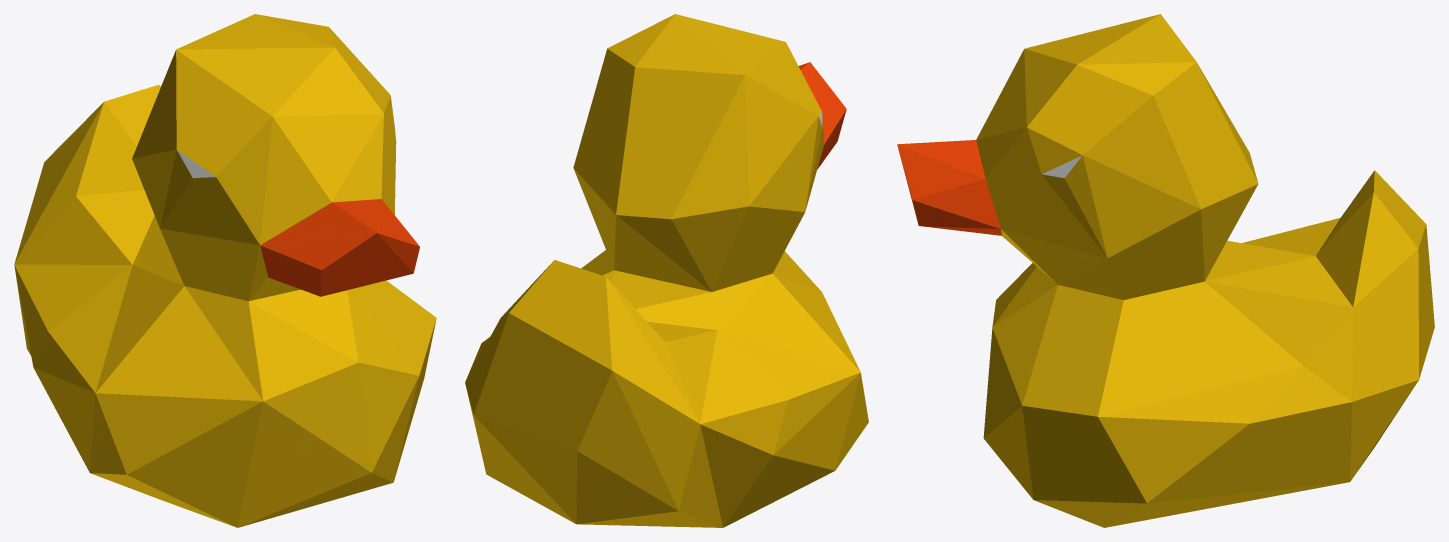
Rendered from duck.glb.
3 renders of one model, left to right at view 1: azimuth 30°, elevation 25°; view 2: azimuth 150°, elevation 25°; view 3: azimuth 270°, elevation 25°, orthographic. The views are drawn at different scales.
Visible parts, largest first — view 1: ducklohpoly_Baked; view 2: ducklohpoly_Baked; view 3: ducklohpoly_Baked.
Boxes of the visible parts, x1,y1,x2,y2 form: ducklohpoly_Baked: [14, 14, 436, 527]; ducklohpoly_Baked: [465, 14, 868, 527]; ducklohpoly_Baked: [897, 14, 1434, 527].
Size of the model in its own units: 0.251 by 0.3144 by 0.3491.
Materials: 1 (1 with a texture image).
